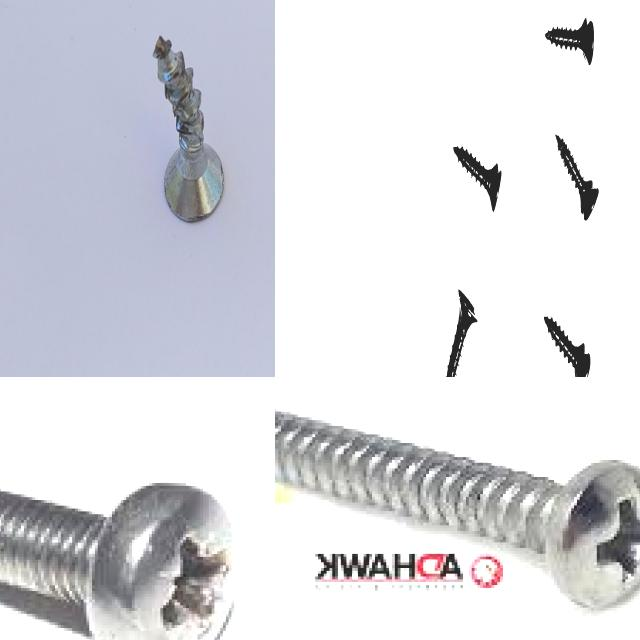Screw: (275, 409, 640, 614), (0, 483, 237, 640), (153, 35, 223, 221), (556, 134, 599, 220), (454, 145, 502, 210), (545, 316, 591, 377), (446, 289, 477, 377), (546, 17, 595, 63)
